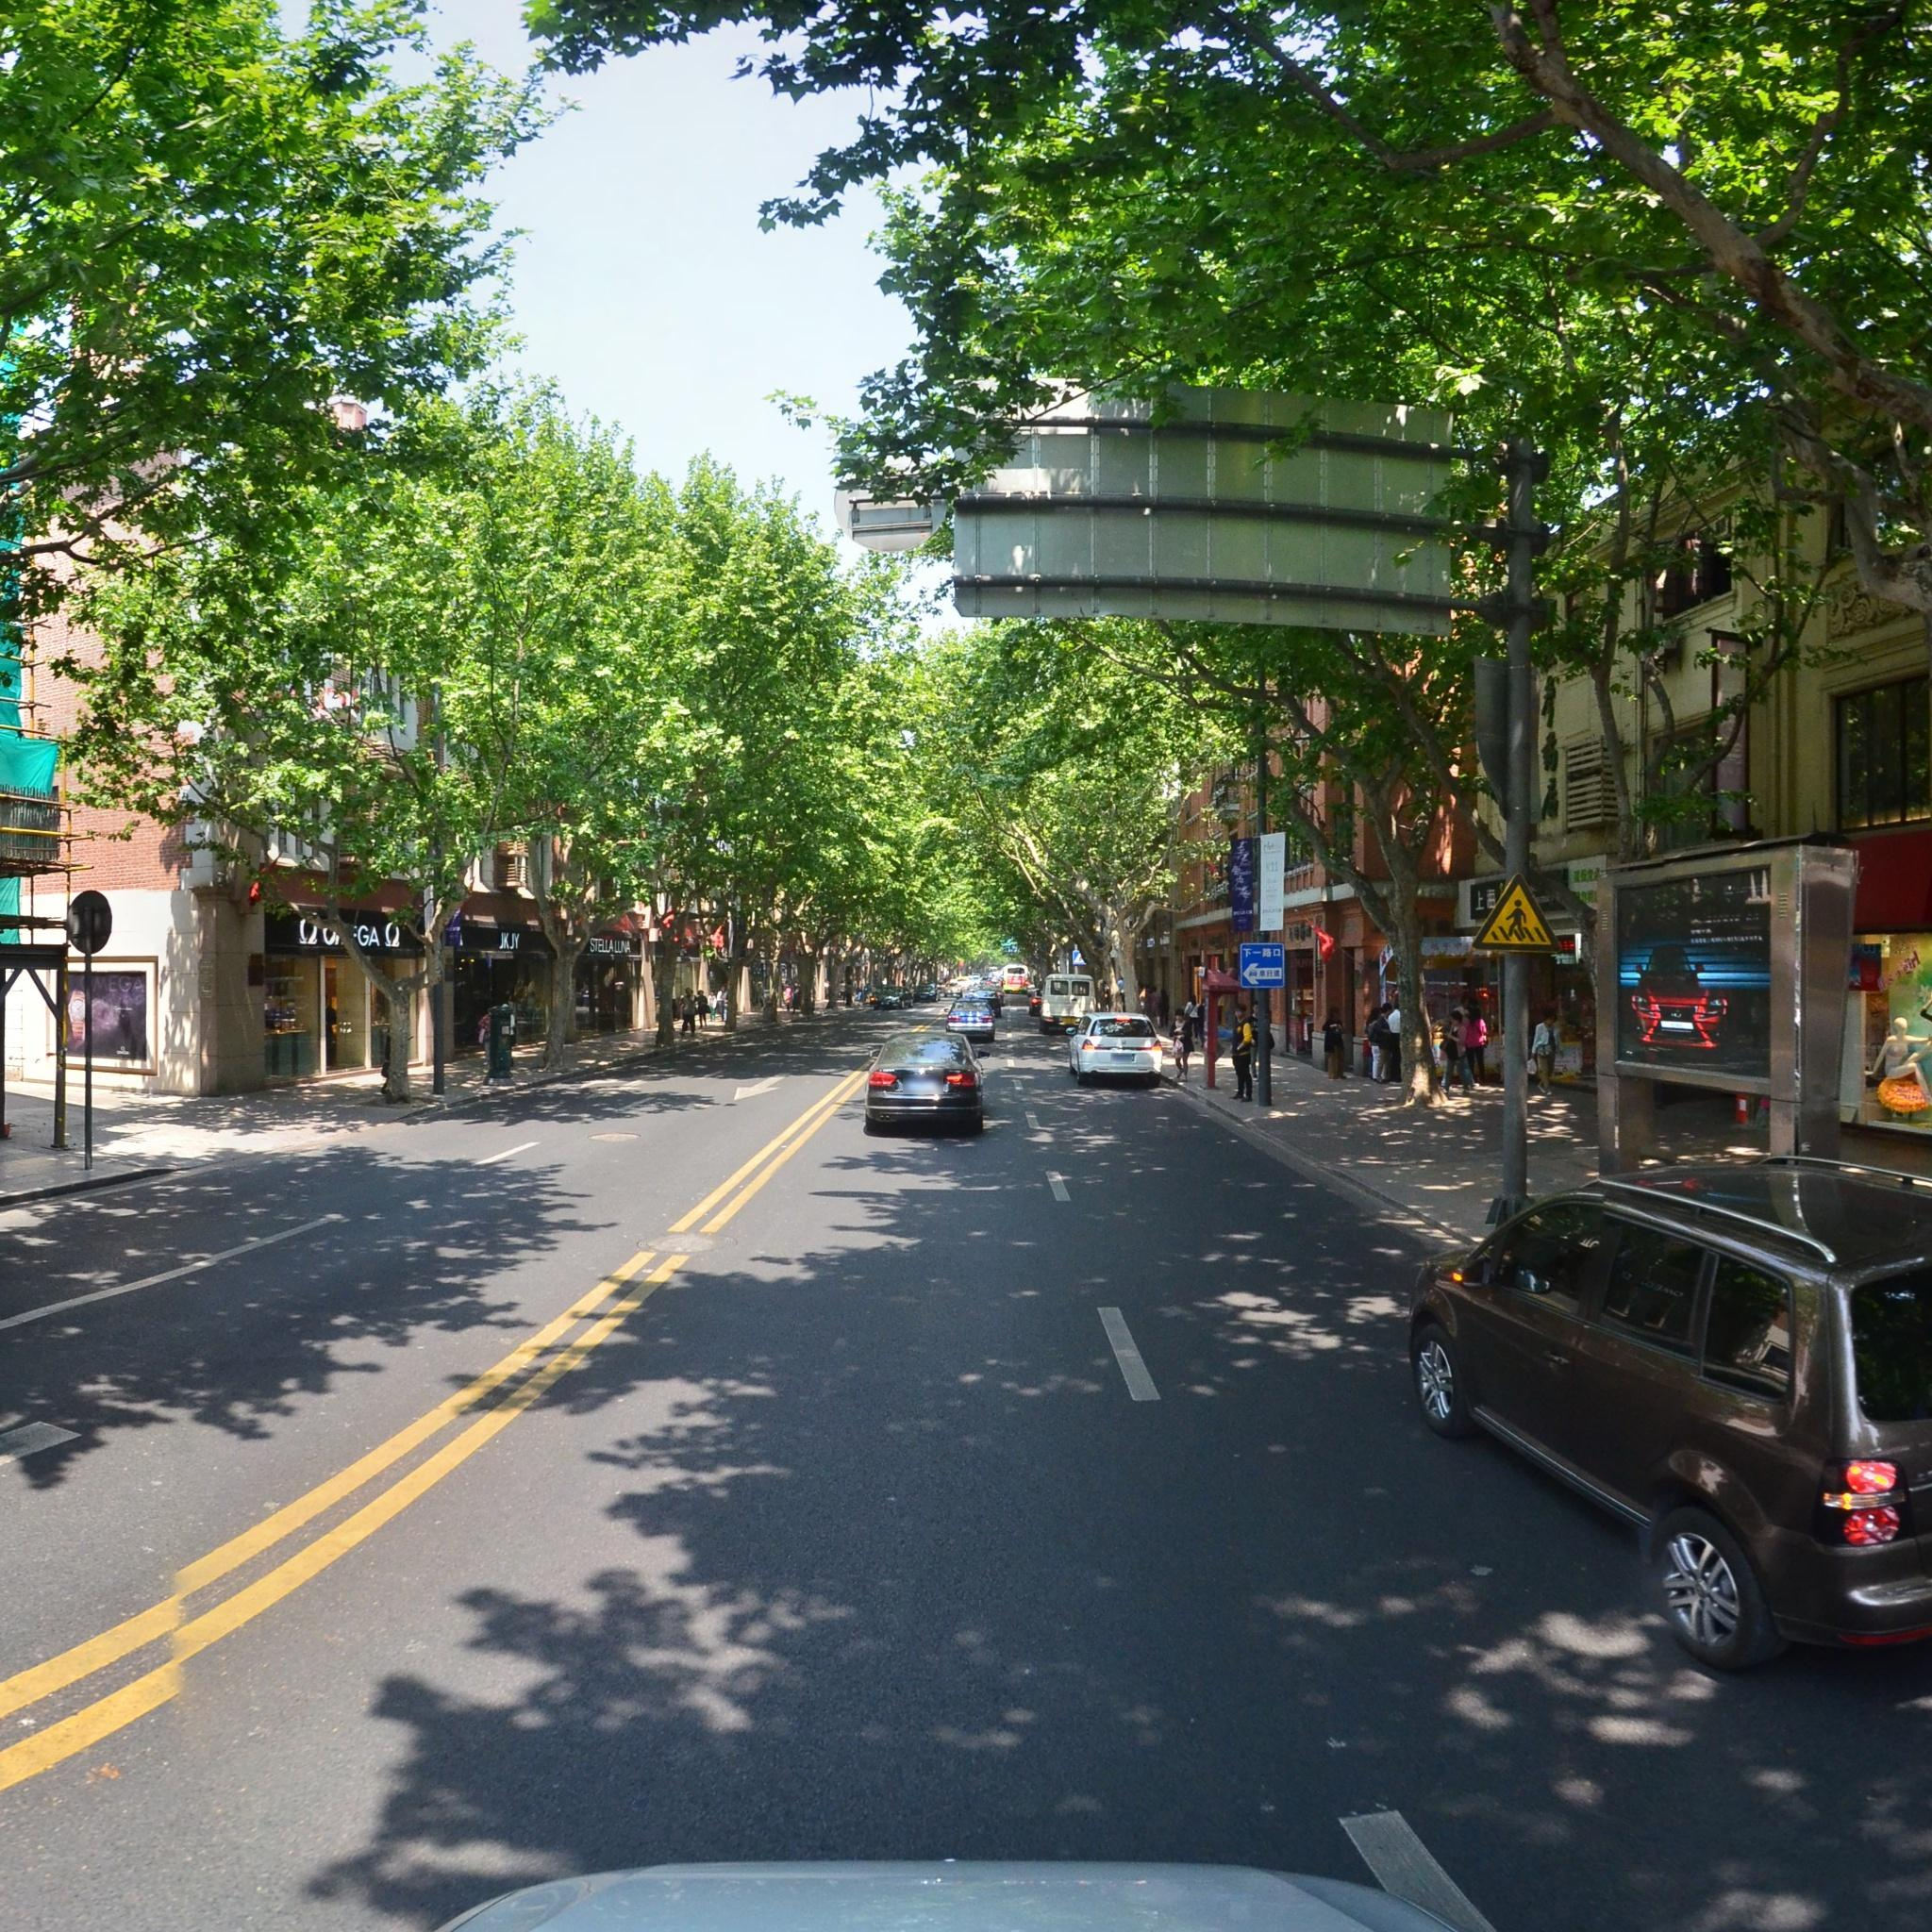w57: (1467, 881, 1564, 961)
